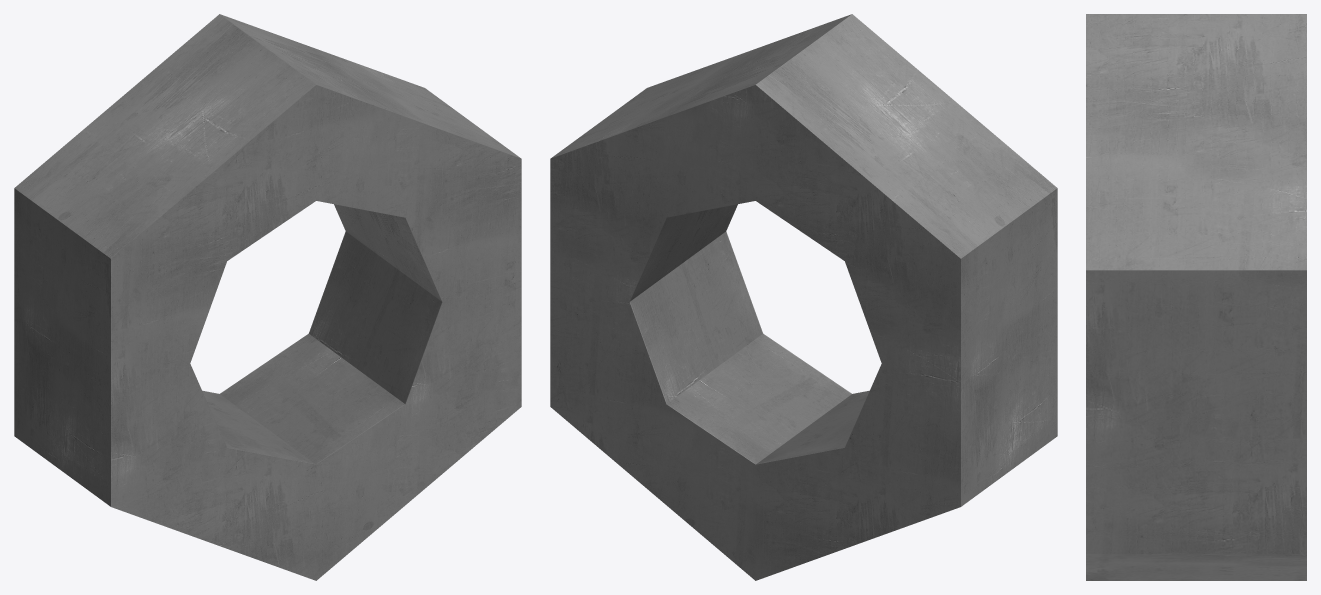
File: Nakretka1.gltf
3 renders of one model, left to right at view 1: azimuth 30°, elevation 25°; view 2: azimuth 150°, elevation 25°; view 3: azimuth 270°, elevation 25°, orthographic. The views are drawn at different scales.
Parts seen in each view (by area): view 1: Cylinder.005; view 2: Cylinder.005; view 3: Cylinder.005.
Boxes of the visible parts, x1=… form: Cylinder.005: x1=14, y1=14, x2=521, y2=580; Cylinder.005: x1=550, y1=14, x2=1057, y2=580; Cylinder.005: x1=1086, y1=14, x2=1306, y2=580.
Size of the model in its own units: 1.12 by 1.29 by 0.4551.
1 material, 1 textured.
